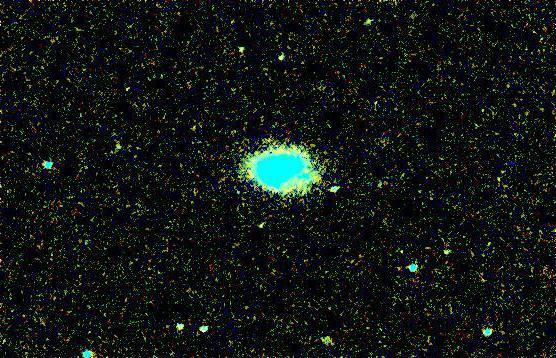star: (291, 162, 321, 192)
